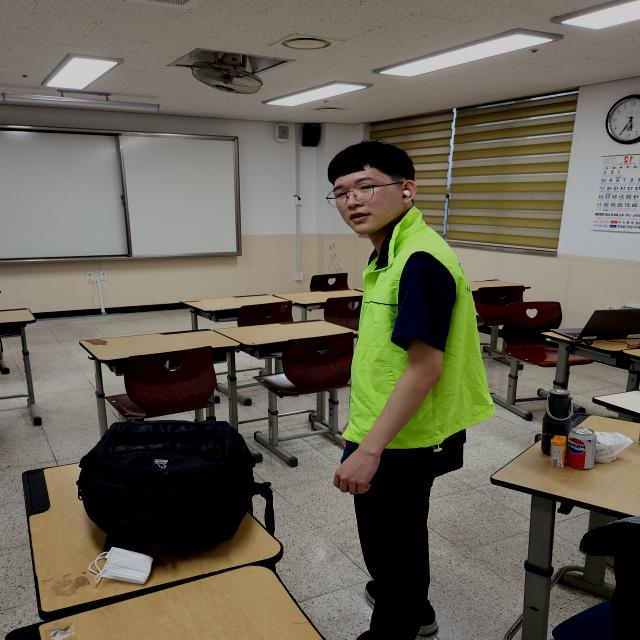weston_spy: (324, 188, 513, 472)
